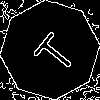T: (25, 25, 80, 78)
